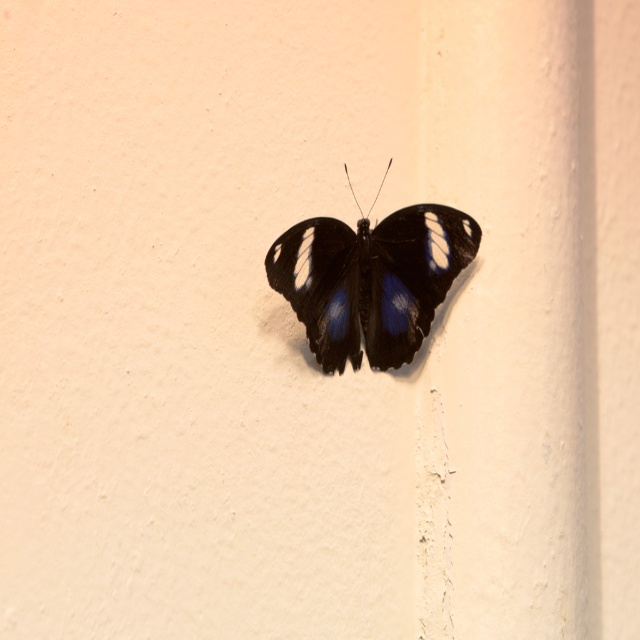Butterfly: (261, 149, 474, 394)
